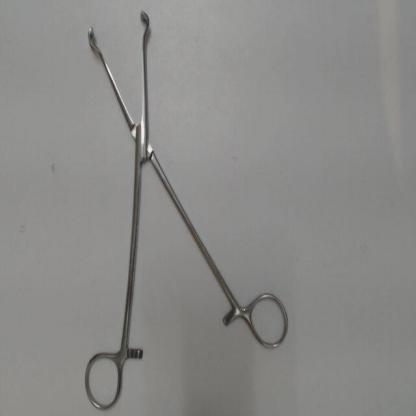8 Babcock Tissue Forceps: (78, 4, 296, 412)
